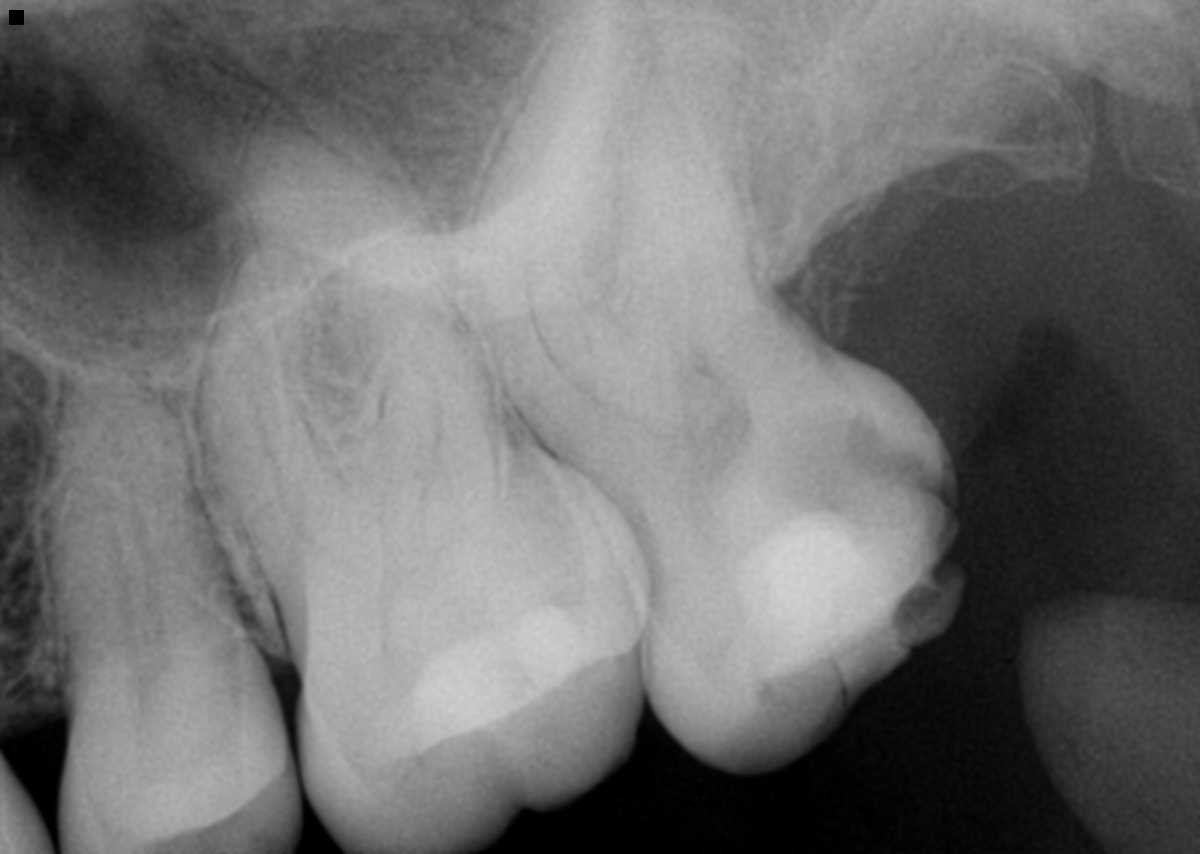Distal Canal: (237, 120, 540, 602), (416, 353, 436, 492)
Distal Root: (612, 18, 784, 331), (342, 230, 508, 489)
Main Canal: (109, 487, 165, 679)
Main Root: (40, 362, 247, 706)
Mesial Canal: (529, 205, 650, 433), (247, 372, 355, 571)
Mesial Root: (465, 10, 655, 489), (189, 244, 354, 599)
Palatal Root: (238, 123, 574, 645)
decay: (764, 414, 957, 543)
